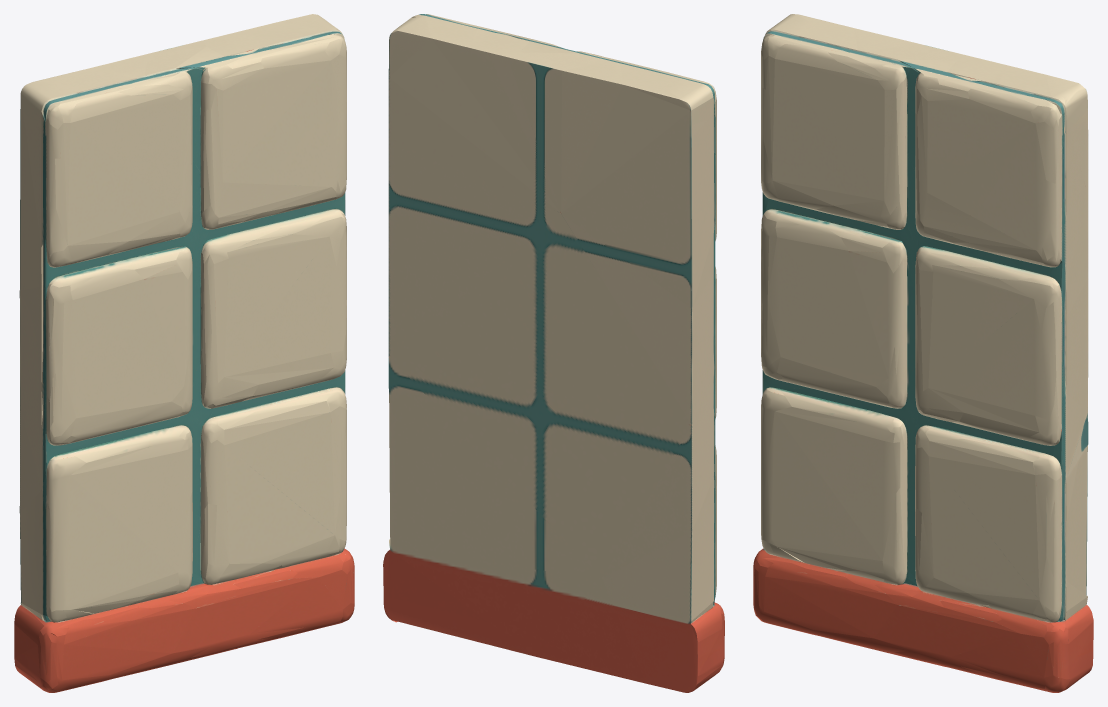
The model's file is restaurant-kitchen-tile-wall.glb.
The picture shows the model from 3 angles, left to right: view 1: azimuth 30°, elevation 25°; view 2: azimuth 150°, elevation 25°; view 3: azimuth 330°, elevation 25°; orthographic projection.
Parts seen in each view (by area): view 1: Mesh_0; view 2: Mesh_0; view 3: Mesh_0.
Boxes of the visible parts, x1,y1,x2,y2 form: Mesh_0: [14, 14, 354, 692]; Mesh_0: [383, 14, 724, 692]; Mesh_0: [753, 14, 1093, 692].
Size of the model in its own units: 1 by 1.8 by 0.18.
Materials: 1 (1 with a texture image).
